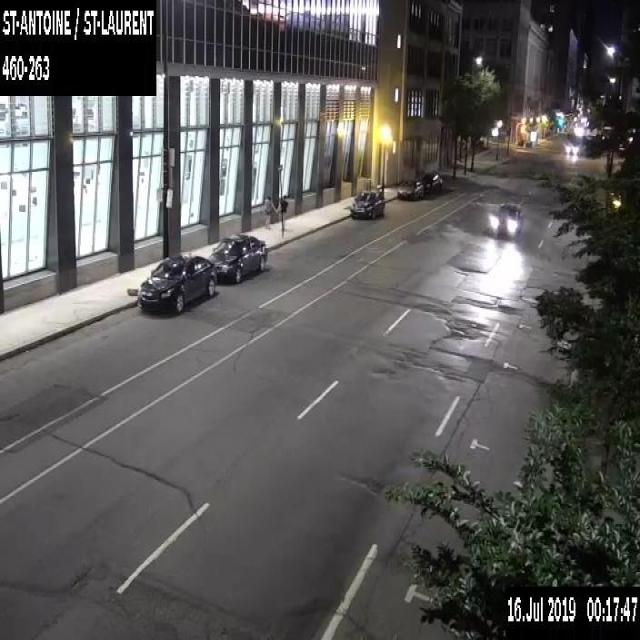pedestrian: (261, 193, 276, 231), (276, 194, 288, 232)
vehicle: (135, 254, 217, 316), (206, 232, 267, 282), (349, 188, 386, 220), (491, 203, 522, 236), (396, 178, 424, 200), (420, 170, 443, 194), (565, 140, 581, 155)
